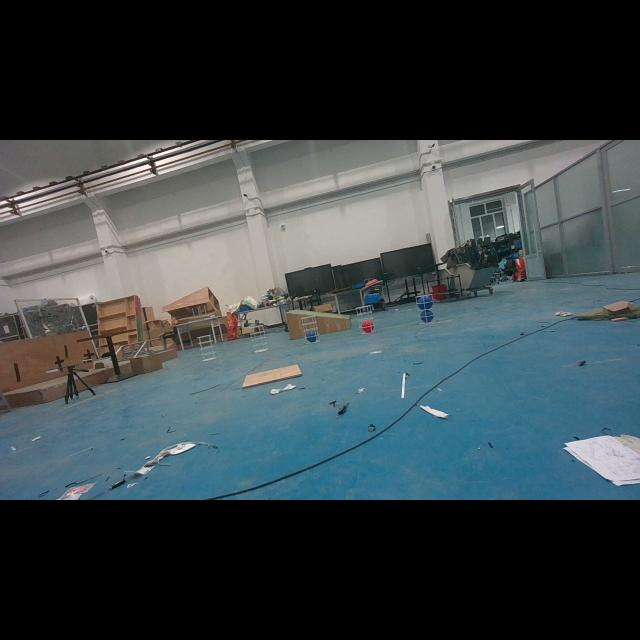B: (416, 295, 434, 309), (420, 311, 434, 323), (306, 331, 318, 343)
R: (361, 321, 374, 334)
S: (414, 292, 438, 326), (354, 304, 378, 338), (300, 314, 322, 346), (248, 323, 270, 355), (196, 332, 218, 364)
